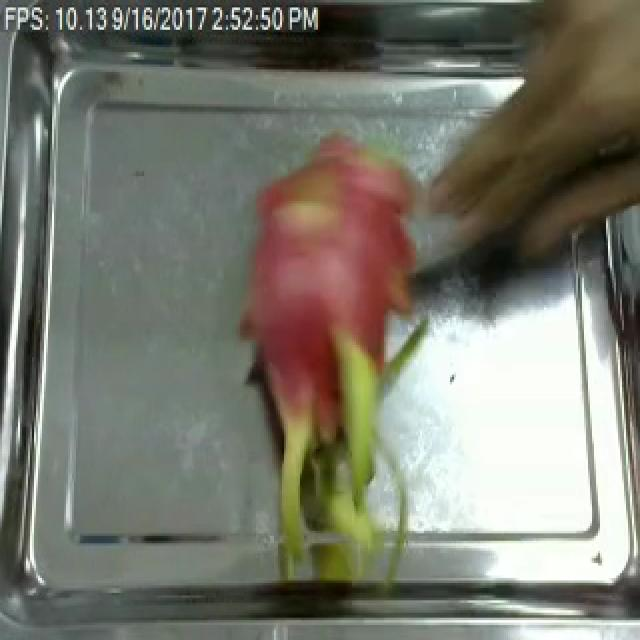fruit: (226, 167, 470, 600)
